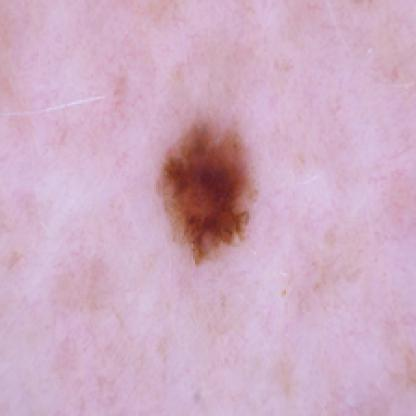benign: (160, 115, 267, 264)
